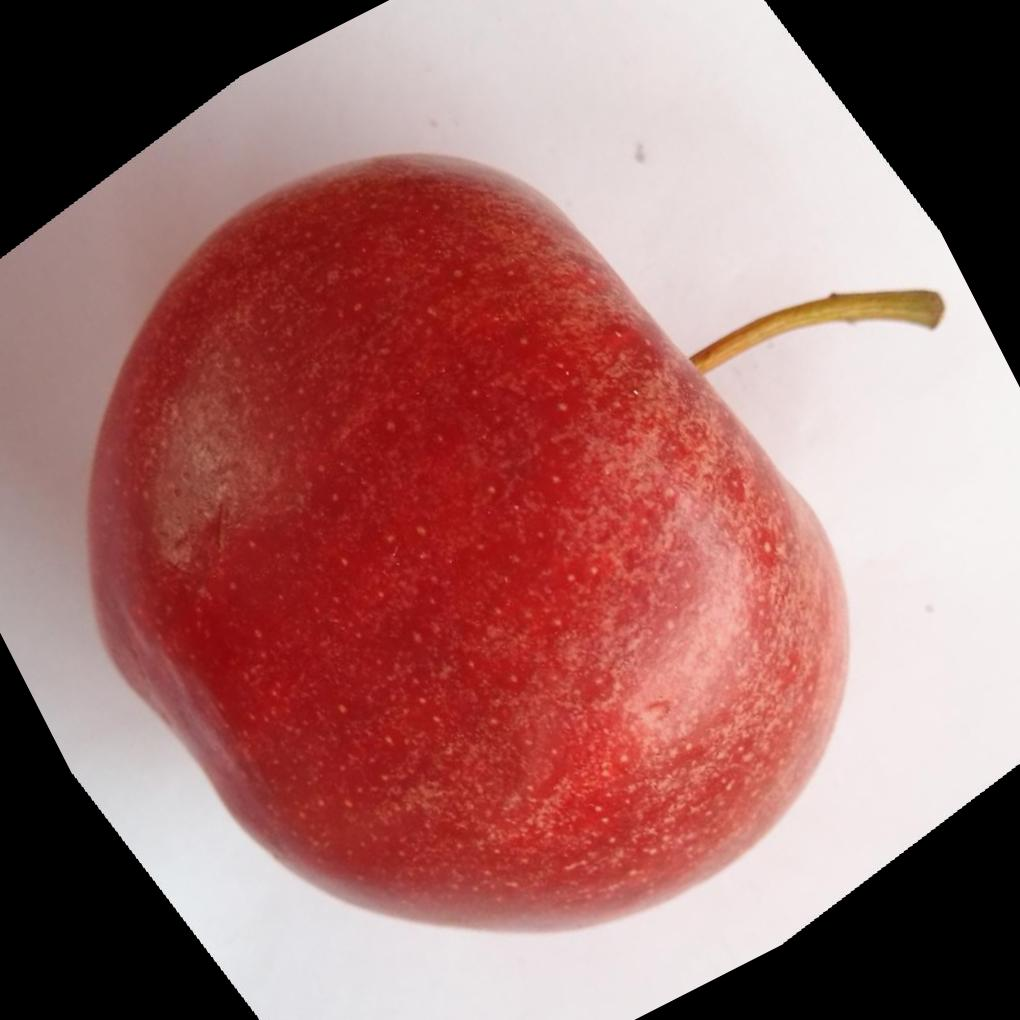FreshGuava: (85, 151, 855, 939)
